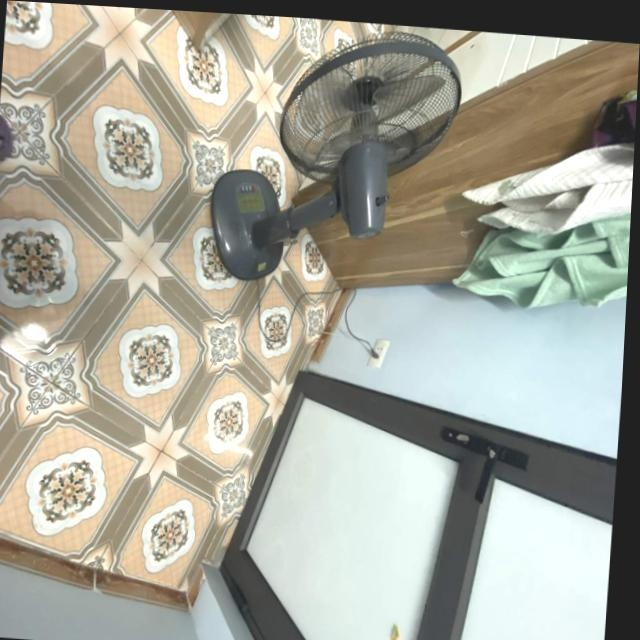outlet: (365, 338, 390, 369)
